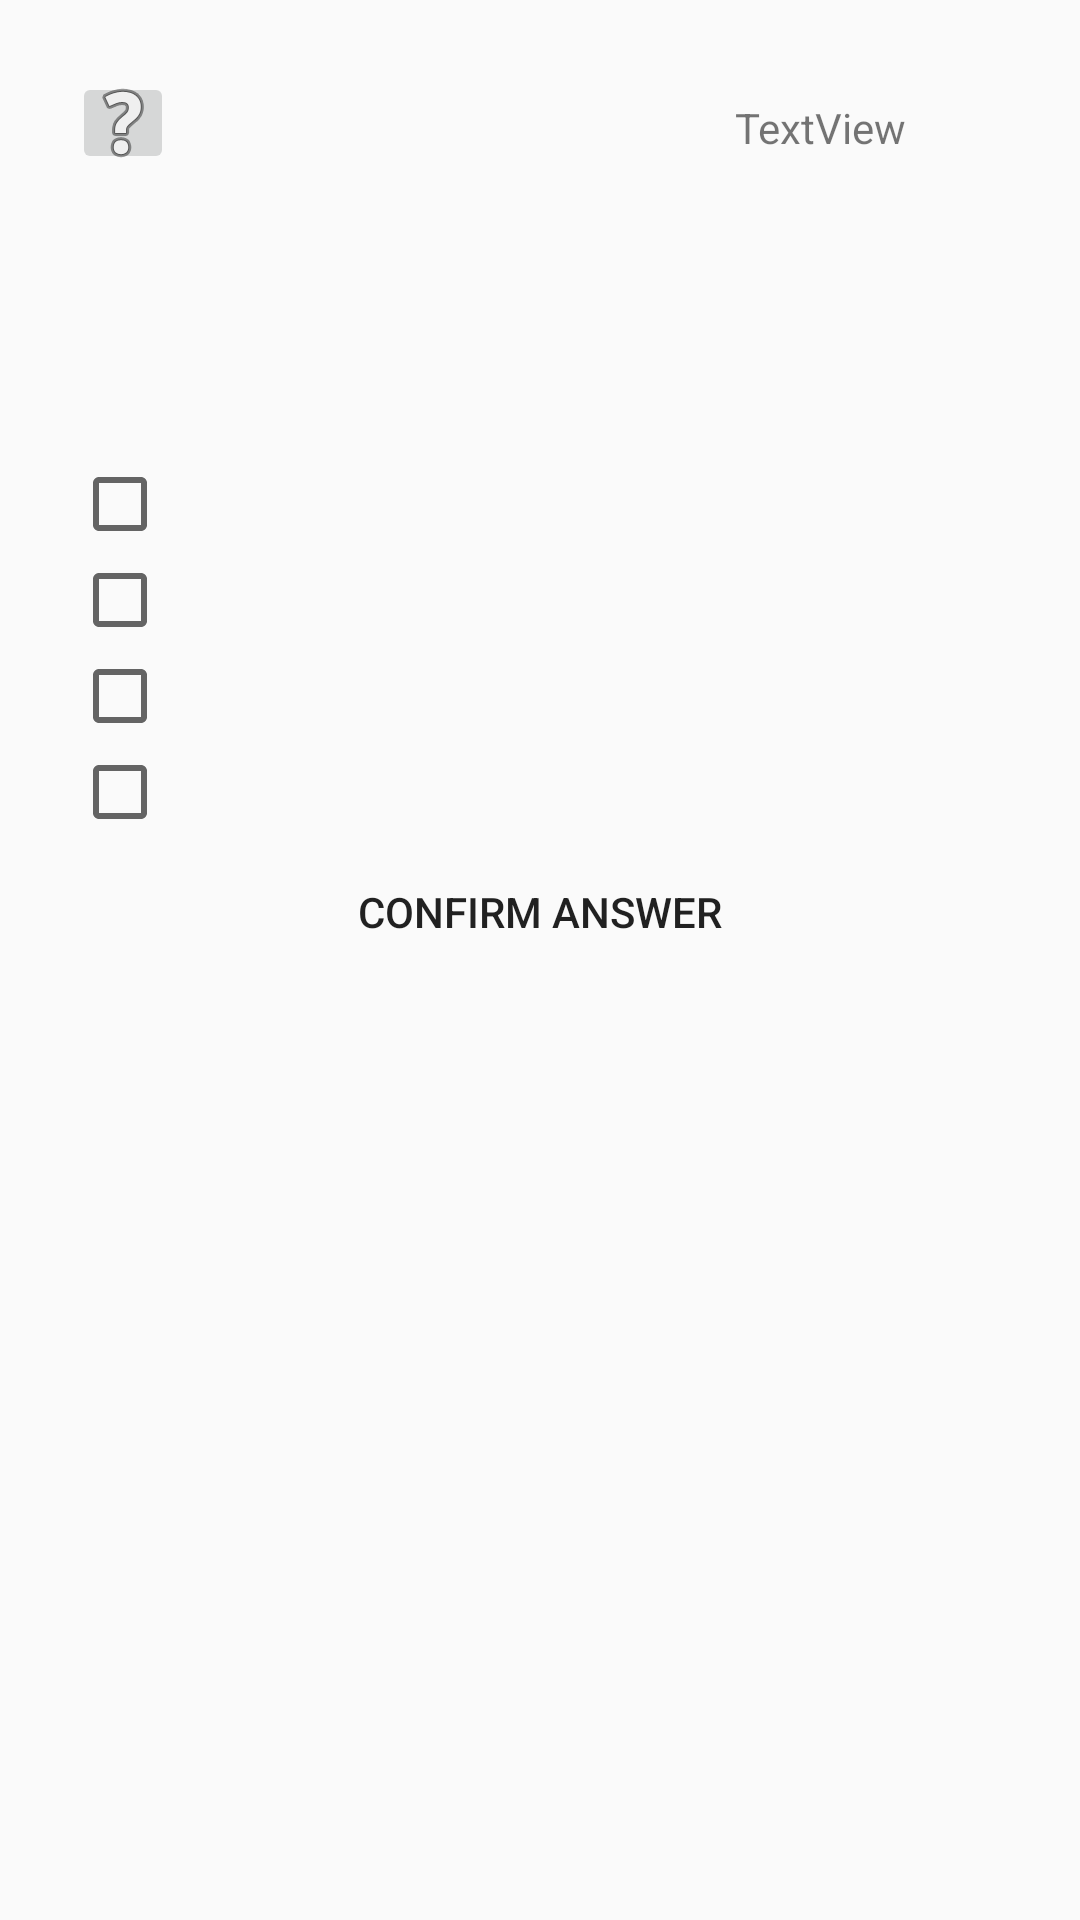

Screen size 1080*1920. Icon name, then its center in pixels as point (x, y):
help: point (123, 123)
